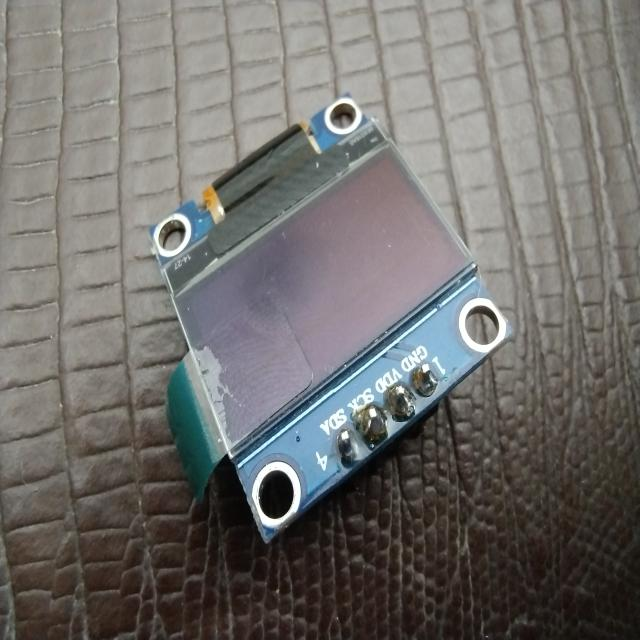oled: (141, 91, 516, 550)
